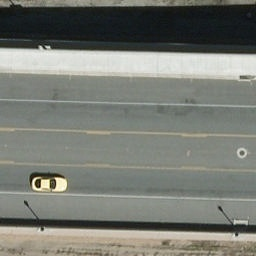car: (30, 176, 68, 193)
